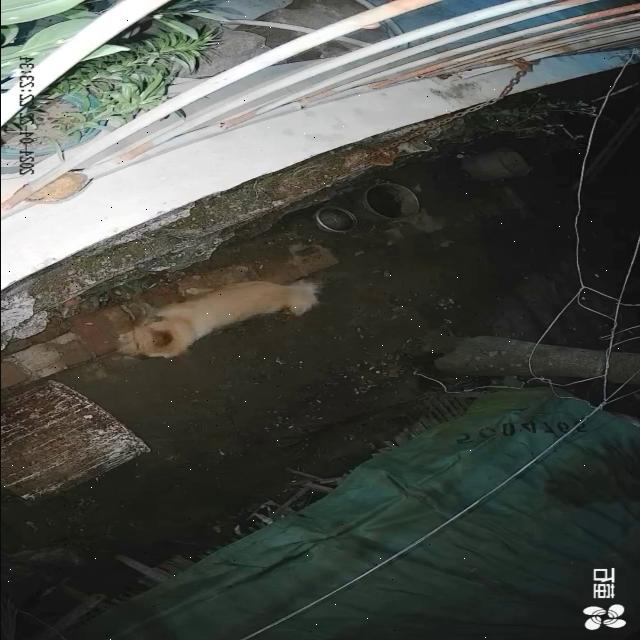dog: (115, 280, 324, 360)
